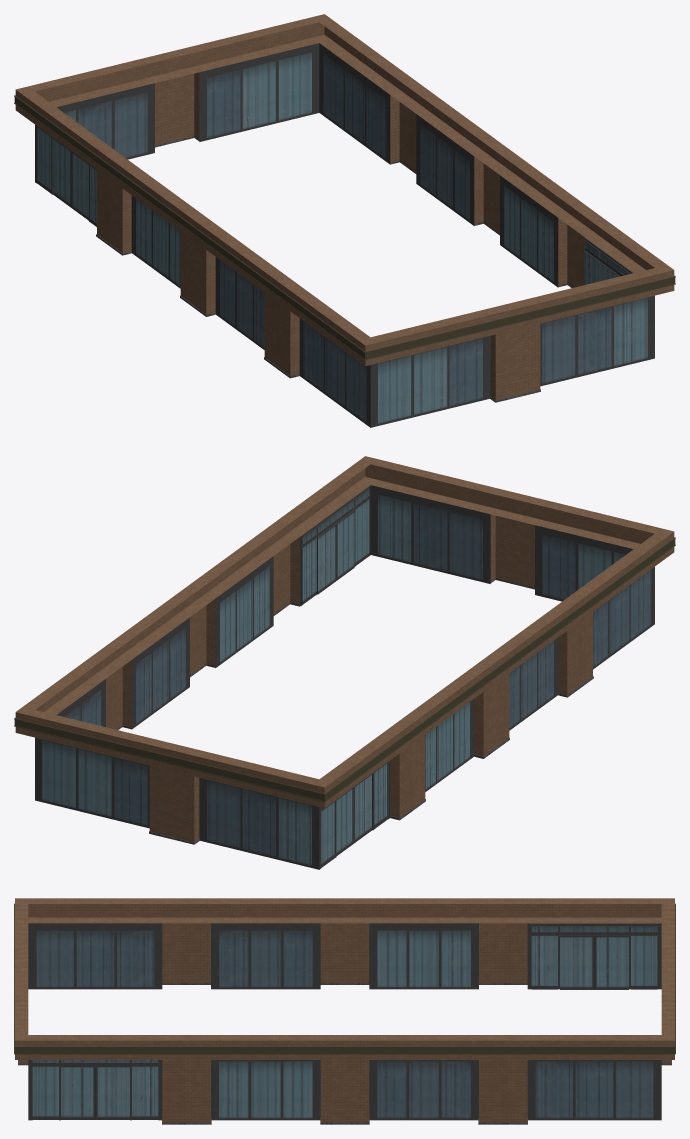
The model's file is jctBld24_12D_btm_low.fbx.
3 views of the same model, one above another, from view 1: azimuth 30°, elevation 25°; view 2: azimuth 150°, elevation 25°; view 3: azimuth 270°, elevation 25° (orthographic). The views are drawn at different scales.
Visible parts, largest first — view 1: jctBld24_12D_btm_low; view 2: jctBld24_12D_btm_low; view 3: jctBld24_12D_btm_low.
Part boxes in pixels (<box>): jctBld24_12D_btm_low: <box>14,14,675,427</box>; jctBld24_12D_btm_low: <box>14,456,675,869</box>; jctBld24_12D_btm_low: <box>14,898,675,1124</box>.
Size of the model in its own units: 1258 by 350 by 2458.
